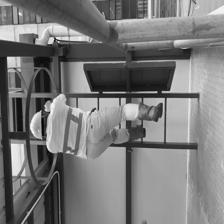Feet: (135, 96, 164, 113), (124, 129, 164, 140)
Hand: (40, 89, 68, 111)
Ladder: (13, 87, 208, 162)
